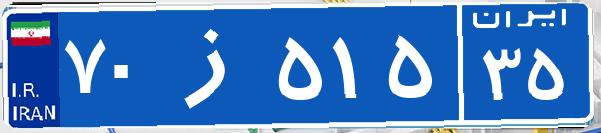0: (110, 28, 158, 105)
1: (330, 28, 385, 110)
3: (475, 38, 525, 113)
5: (385, 28, 445, 110), (273, 28, 330, 110), (525, 38, 570, 115)
7: (57, 26, 110, 107)
ز: (158, 15, 273, 115)
